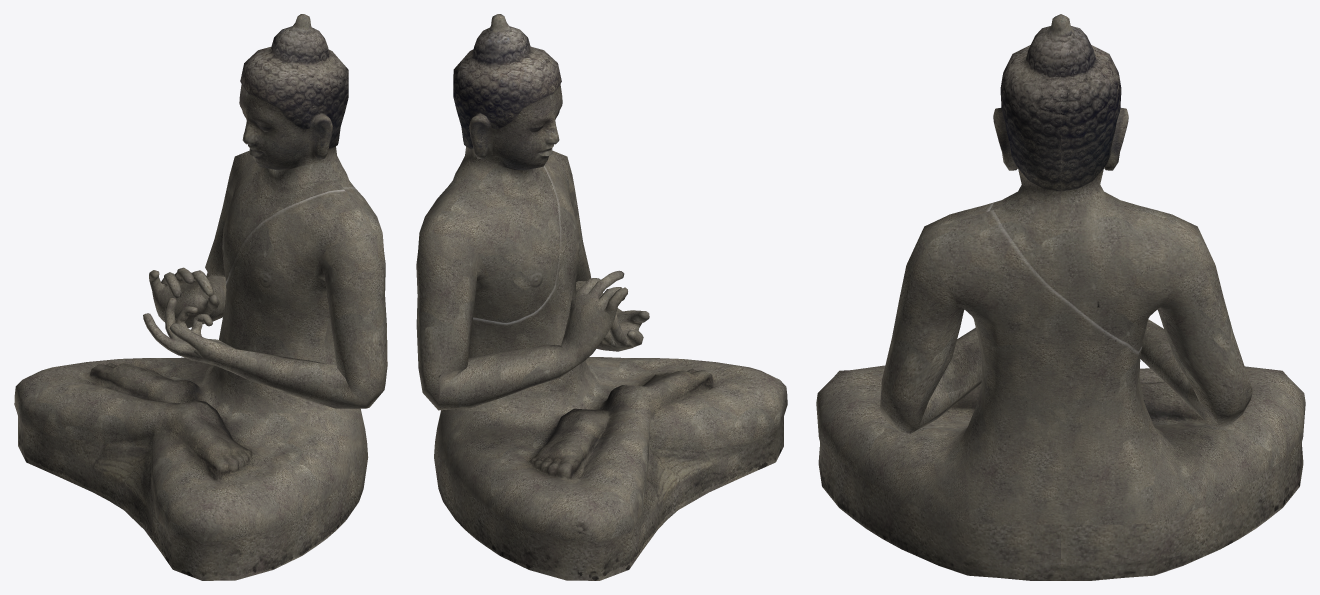
Rendered from Patung_HI.FBX.
The picture shows the model from 3 angles, left to right: view 1: azimuth 30°, elevation 25°; view 2: azimuth 150°, elevation 25°; view 3: azimuth 270°, elevation 25°; orthographic projection. The views are drawn at different scales.
Visible parts, largest first — view 1: Patung_HI; view 2: Patung_HI; view 3: Patung_HI.
Part boxes in pixels (x1=…): Patung_HI: x1=14, y1=14, x2=387, y2=580; Patung_HI: x1=416, y1=14, x2=787, y2=580; Patung_HI: x1=816, y1=14, x2=1305, y2=580.
Bounding box in the file's own units: 0.6966 × 1.22 × 0.9895.
